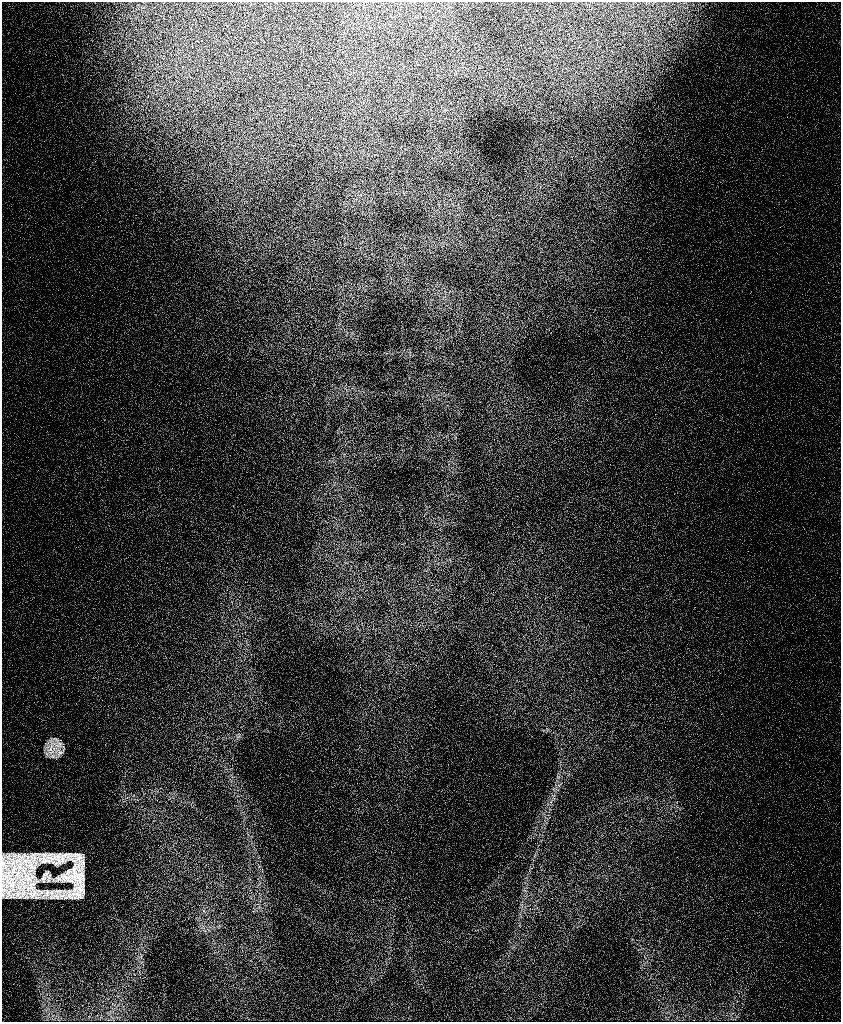lumbar scoliosis: (296, 76, 493, 617)
